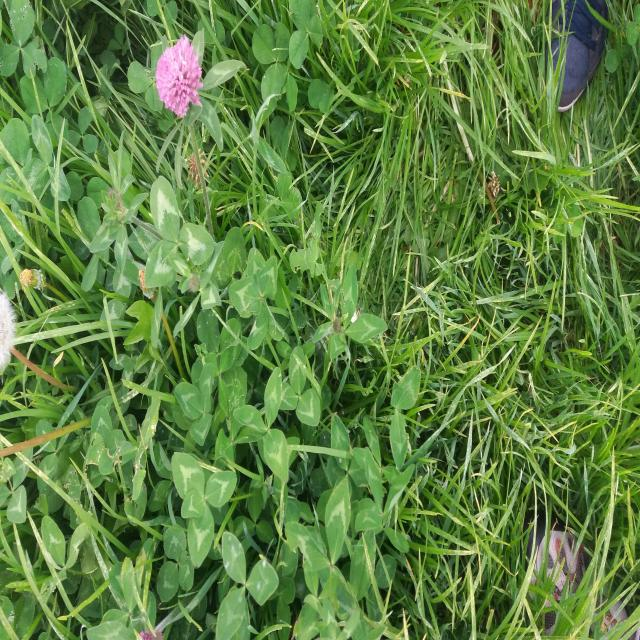Four Leaf Clover: (172, 453, 238, 568)
